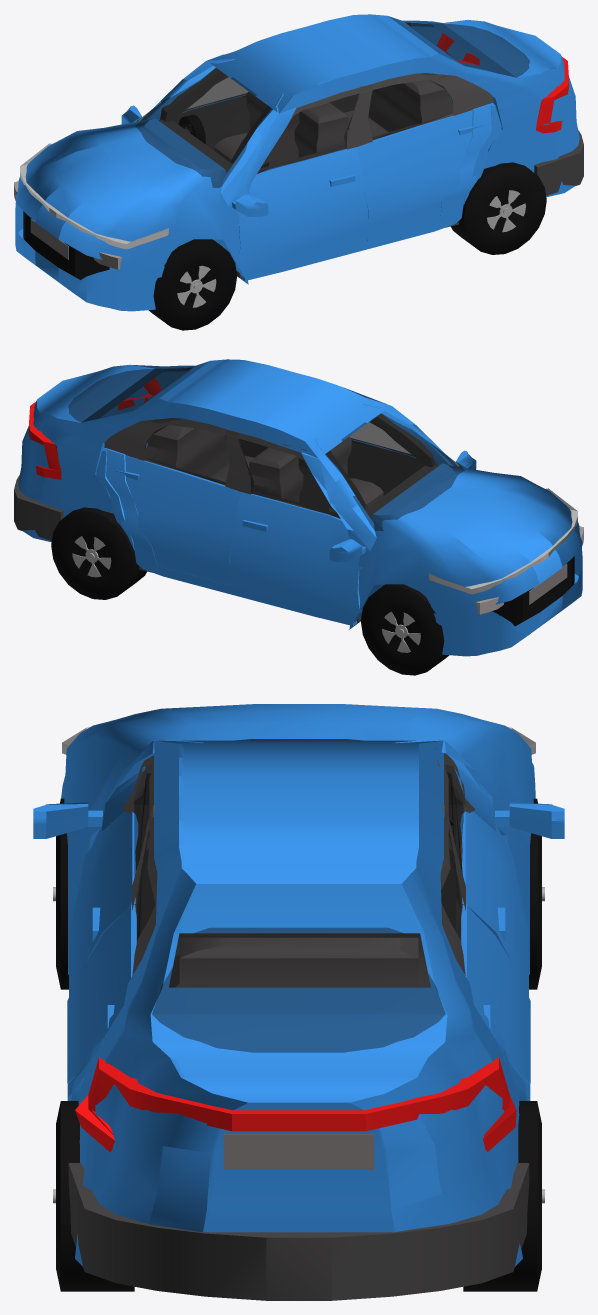
File: hyundai_verna.glb
3 views of the same model, one above another, from view 1: azimuth 30°, elevation 25°; view 2: azimuth 150°, elevation 25°; view 3: azimuth 270°, elevation 25° (orthographic). The views are drawn at different scales.
Visible parts, largest first — view 1: Object_8, Object_18, Object_17, Object_10, Object_4, Object_14, Object_9, Object_3, Object_13, Object_2, Object_7, Object_12 (+1 smaller); view 2: Object_8, Object_18, Object_10, Object_17, Object_14, Object_9, Object_3, Object_13, Object_2, Object_7, Object_12; view 3: Object_8, Object_18, Object_3, Object_17, Object_2, Object_10, Object_12, Object_9, Object_14, Object_4.
Boxes of the visible parts, x1=… form: Object_8: x1=15, y1=14, x2=579, y2=311; Object_18: x1=135, y1=23, x2=529, y2=187; Object_17: x1=214, y1=80, x2=453, y2=167; Object_10: x1=23, y1=162, x2=546, y2=279; Object_4: x1=149, y1=239, x2=237, y2=330; Object_14: x1=159, y1=68, x2=458, y2=277; Object_9: x1=185, y1=22, x2=493, y2=171; Object_3: x1=534, y1=130, x2=583, y2=195; Object_13: x1=177, y1=190, x2=525, y2=307; Object_2: x1=437, y1=33, x2=568, y2=133; Object_7: x1=20, y1=143, x2=168, y2=249; Object_12: x1=30, y1=219, x2=68, y2=259; Object_8: x1=18, y1=359, x2=582, y2=656; Object_18: x1=68, y1=368, x2=464, y2=530; Object_10: x1=51, y1=507, x2=574, y2=675; Object_17: x1=144, y1=425, x2=383, y2=512; Object_14: x1=139, y1=413, x2=438, y2=622; Object_9: x1=104, y1=367, x2=415, y2=518; Object_3: x1=14, y1=475, x2=63, y2=540; Object_13: x1=72, y1=536, x2=420, y2=652; Object_2: x1=29, y1=378, x2=161, y2=479; Object_7: x1=429, y1=488, x2=577, y2=594; Object_12: x1=529, y1=564, x2=567, y2=604; Object_8: x1=33, y1=704, x2=564, y2=1266; Object_18: x1=134, y1=739, x2=463, y2=1052; Object_3: x1=68, y1=1163, x2=529, y2=1300; Object_17: x1=169, y1=937, x2=430, y2=987; Object_2: x1=75, y1=1057, x2=516, y2=1152; Object_10: x1=56, y1=798, x2=541, y2=1291; Object_12: x1=223, y1=1134, x2=374, y2=1169; Object_9: x1=122, y1=753, x2=474, y2=975; Object_14: x1=132, y1=764, x2=465, y2=937; Object_4: x1=56, y1=798, x2=68, y2=989.
Bounding box in the file's own units: 1.59 × 0.5633 × 0.7162.
Materials: 17 (2 with a texture image).
